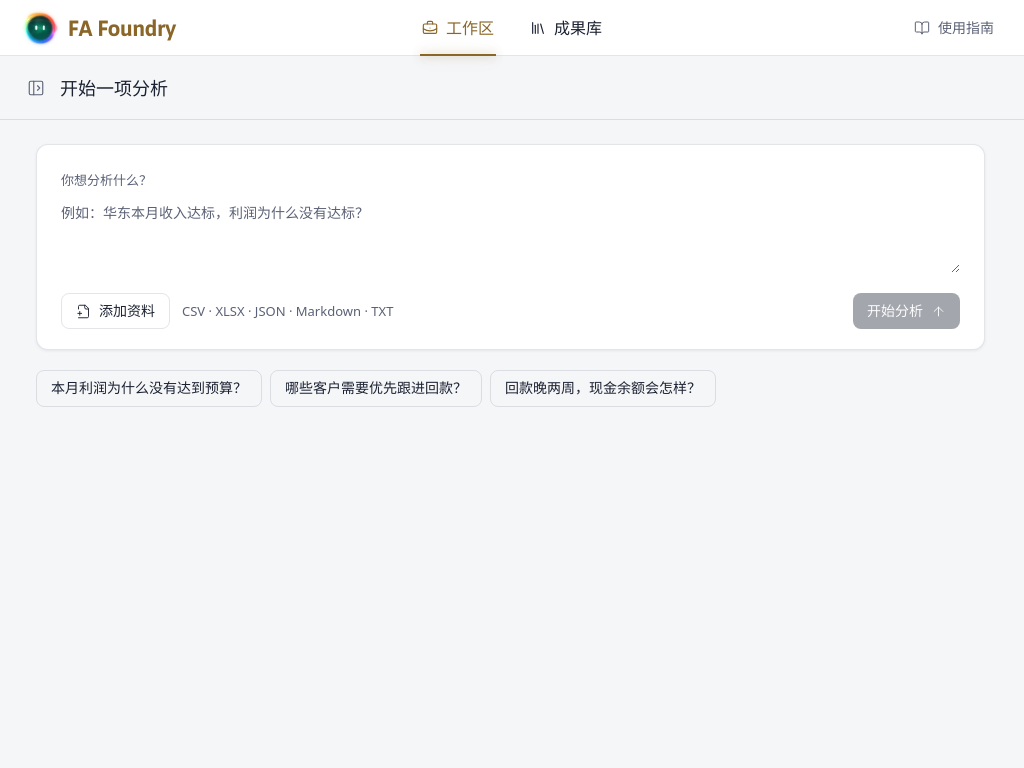
Test: unified application session lifecycle › keeps the newest task list response after switching lifecycle filters
The image size is (1024, 768).
Click the button named "展开任务列表". click: (36, 88)
box: [20,72,52,104]
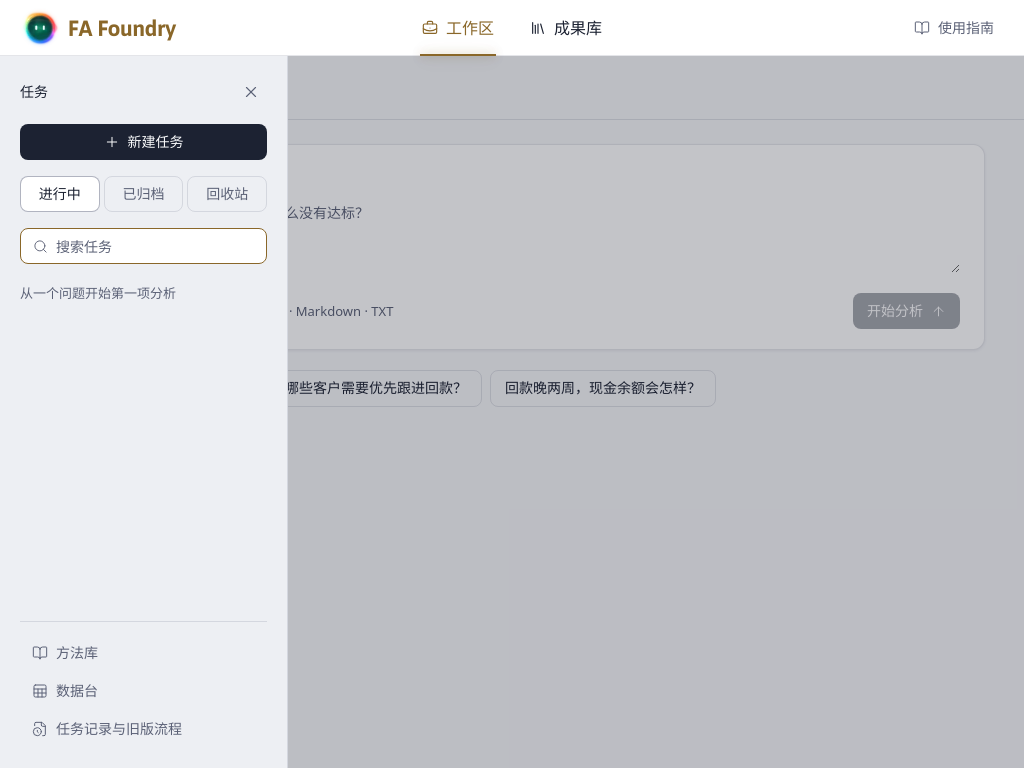
Click the button "已归档". click: (144, 194)
box: [104,176,183,212]
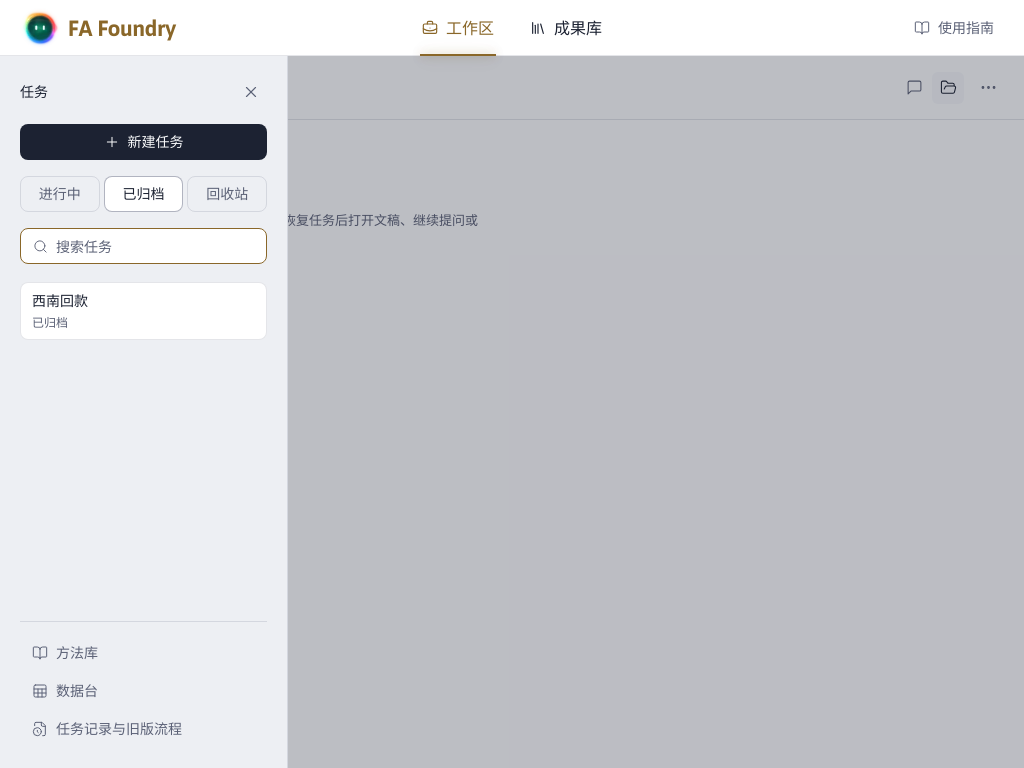
Expected: the button "西南回款 已归档" is shown, [20,282,267,340]
